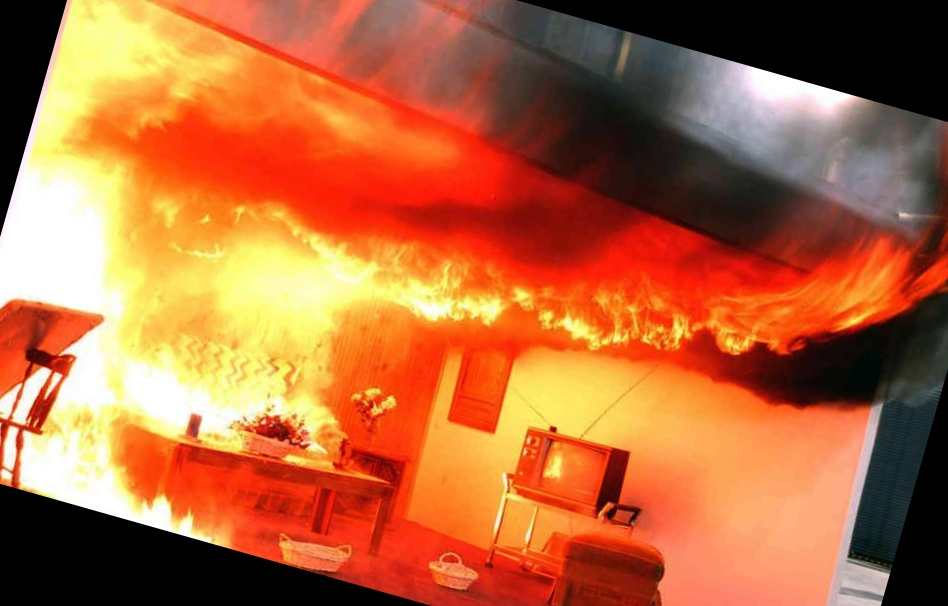fire: (0, 15, 385, 491), (405, 106, 945, 438)
